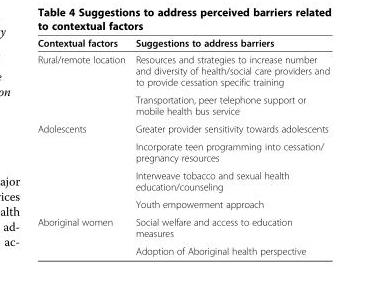table: (36, 36, 329, 256)
table column: (129, 36, 329, 256), (36, 36, 129, 256)
table column header: (36, 36, 329, 50)
table row: (36, 50, 329, 90), (36, 90, 329, 119), (36, 137, 329, 166), (36, 166, 329, 195), (36, 212, 329, 241), (36, 119, 329, 137), (36, 195, 329, 212), (36, 241, 329, 256), (36, 36, 329, 50)
table spanning cell: (36, 119, 129, 212), (36, 50, 129, 119), (36, 212, 129, 256)
